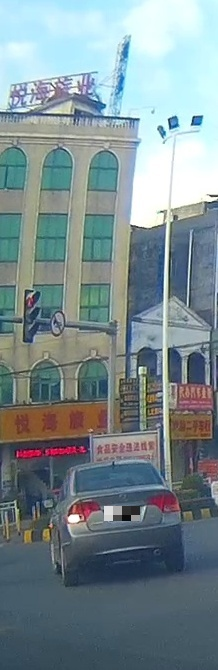L_light: (66, 500, 102, 525)
R_light: (144, 492, 181, 512)
T_light: (108, 465, 128, 471)
day-left: (61, 458, 183, 586)
plate_1: (104, 506, 140, 521)
